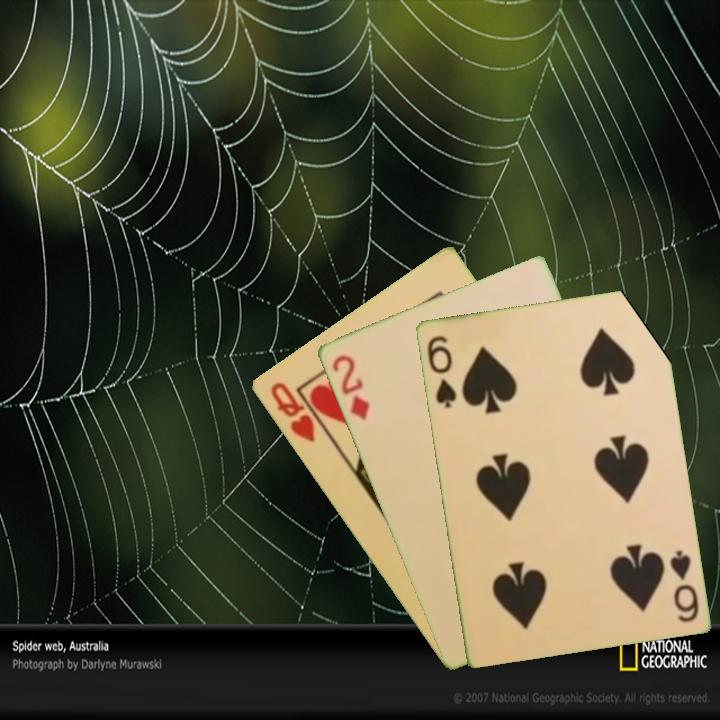2d: (327, 350, 372, 423)
6s: (423, 331, 459, 411), (666, 546, 701, 625)
Qh: (266, 378, 318, 446)
